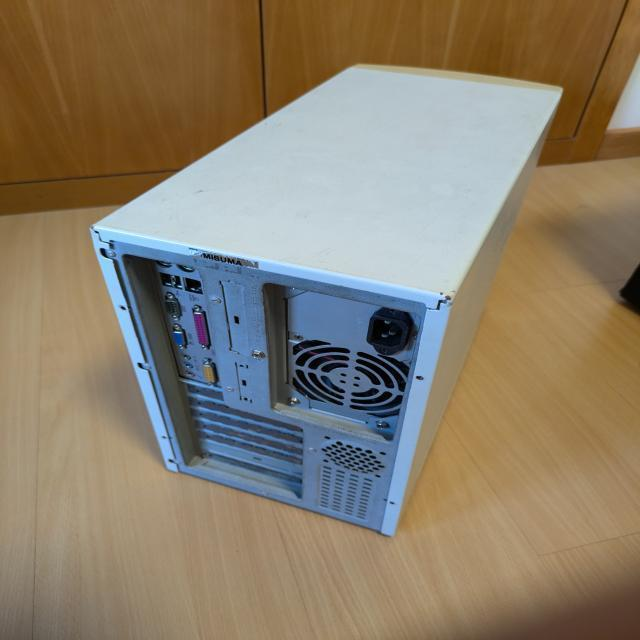PSU: (268, 284, 420, 441)
